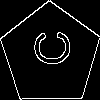C: (25, 30, 70, 67)
